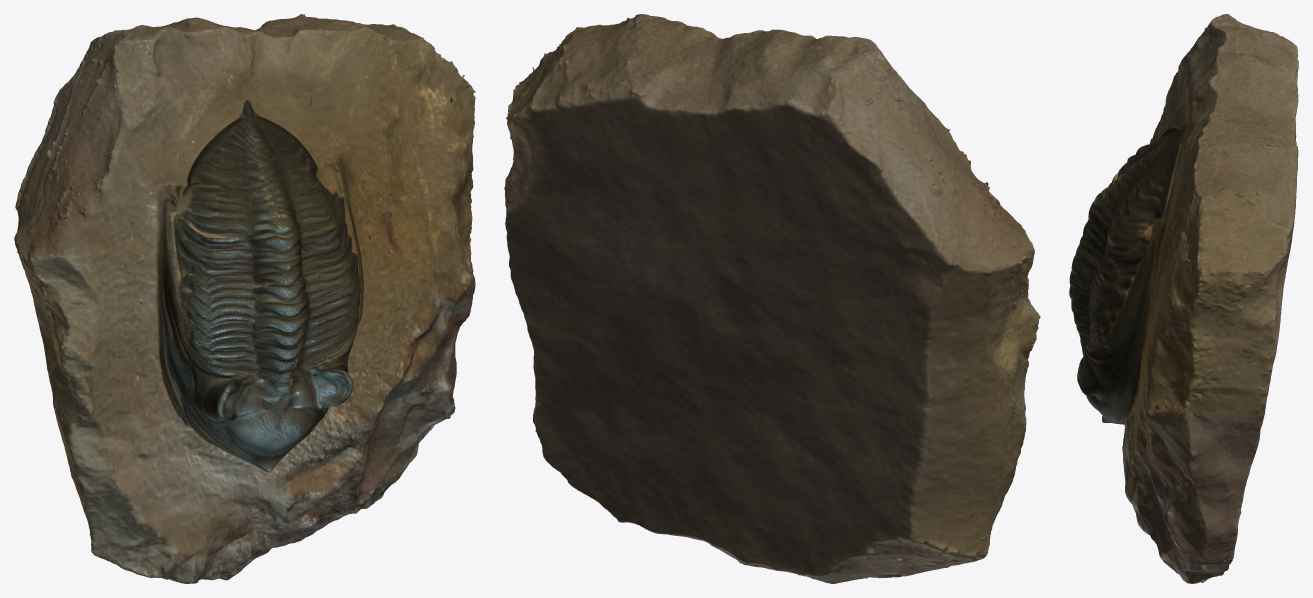
Rendered from trilobite.glb.
3 views of the same model, side by side, from view 1: azimuth 30°, elevation 25°; view 2: azimuth 150°, elevation 25°; view 3: azimuth 270°, elevation 25° (orthographic). The views are drawn at different scales.
Size of the model in its own units: 1.71 by 1.9 by 0.8058.
1 material, 1 textured.
